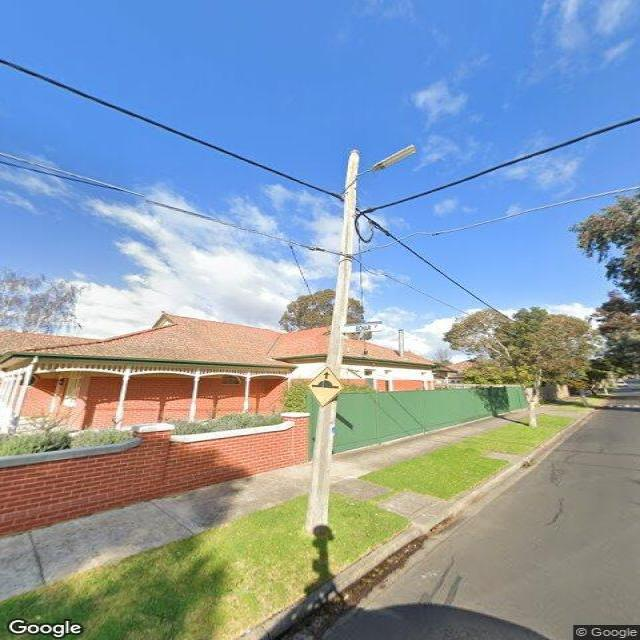streetlight: (349, 143, 421, 183)
timber-pole: (310, 145, 362, 527)
